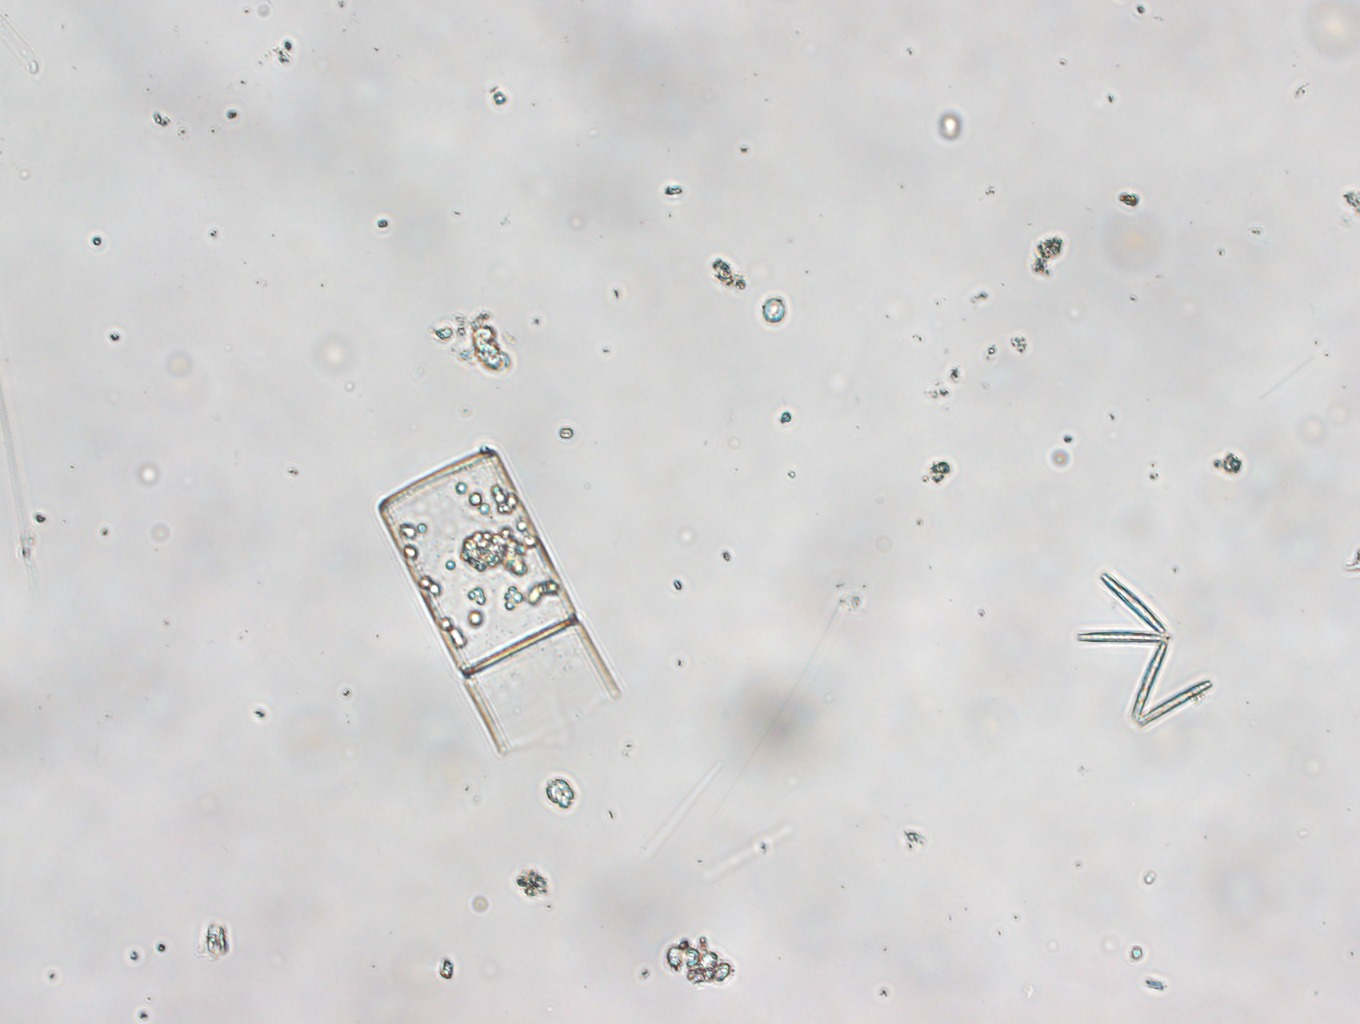guinardia flaccida: (377, 449, 622, 755)
thalassionema nitzschioides: (1077, 569, 1212, 727)
